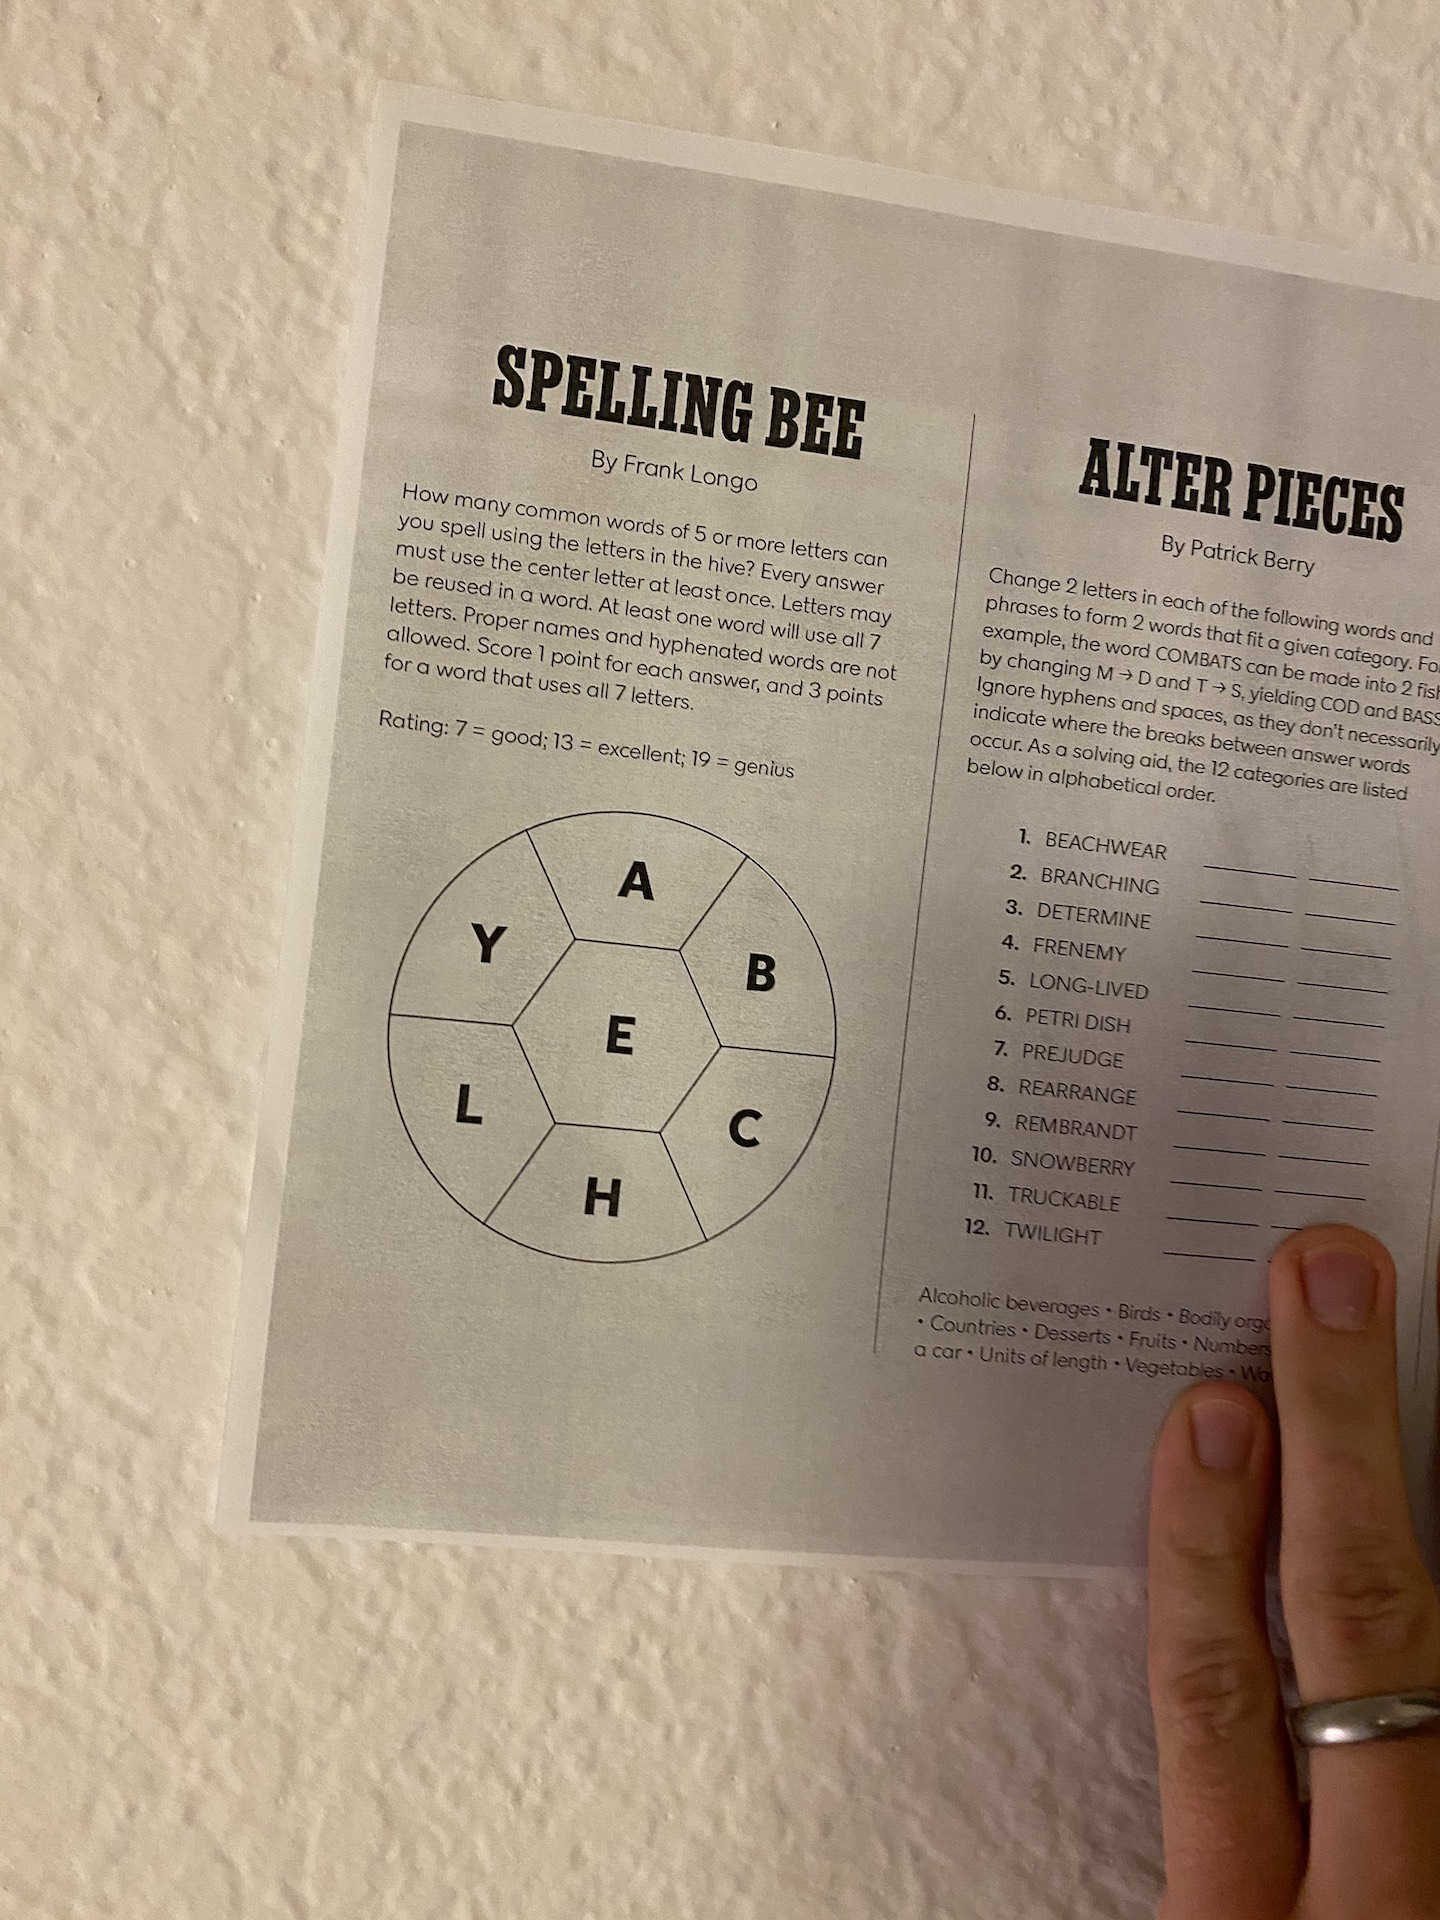Board: (360, 803, 855, 1281)
